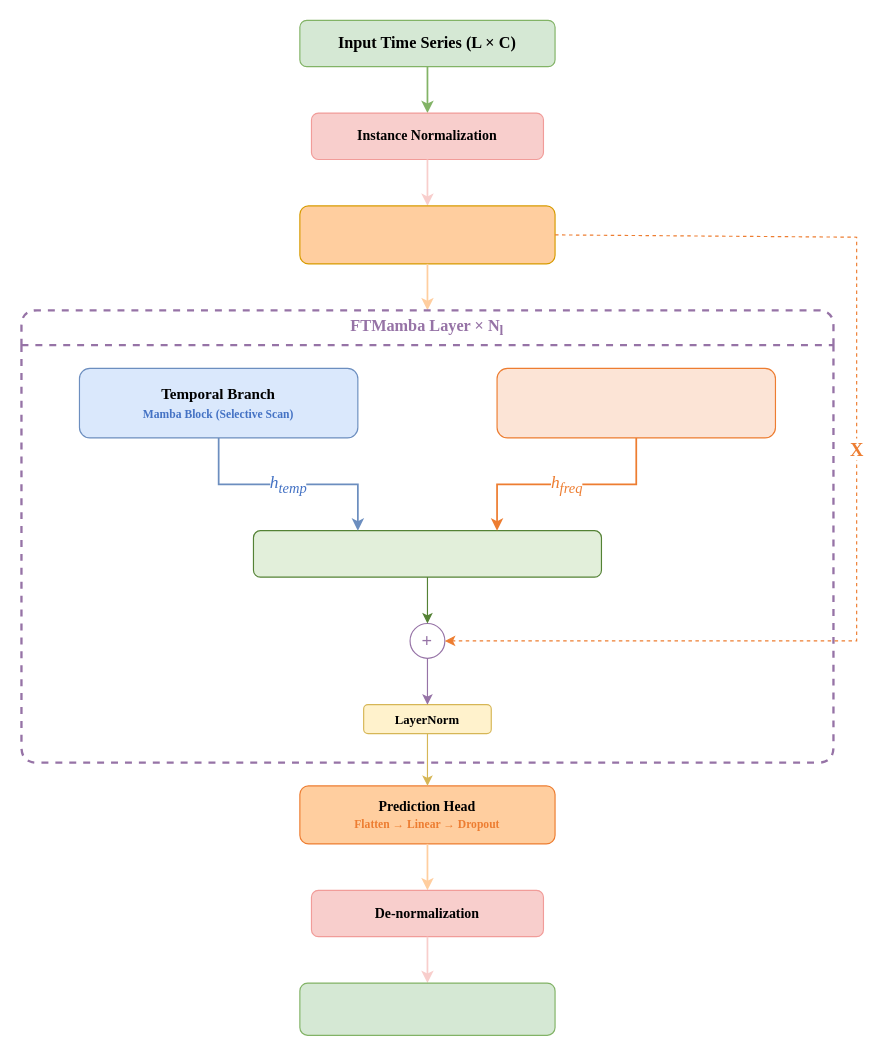
The diagram is 886 pixels wide and 1056 high, and some of its shapes have lost their labels. The shapes that lost their labels are listed below. From the top down, each one's centre as x and y in pixels, then its label:
At point 427,234: "Patch Embedding Linear + Positional Encoding".
At point 635,402: "Frequency Branch FFT → Learnable Filter → iFFT".
At point 426,553: "Gated Fusion σ(Linear([h temp ; h freq ]))".
At point 427,1008: "Output Forecast (T × C)".
